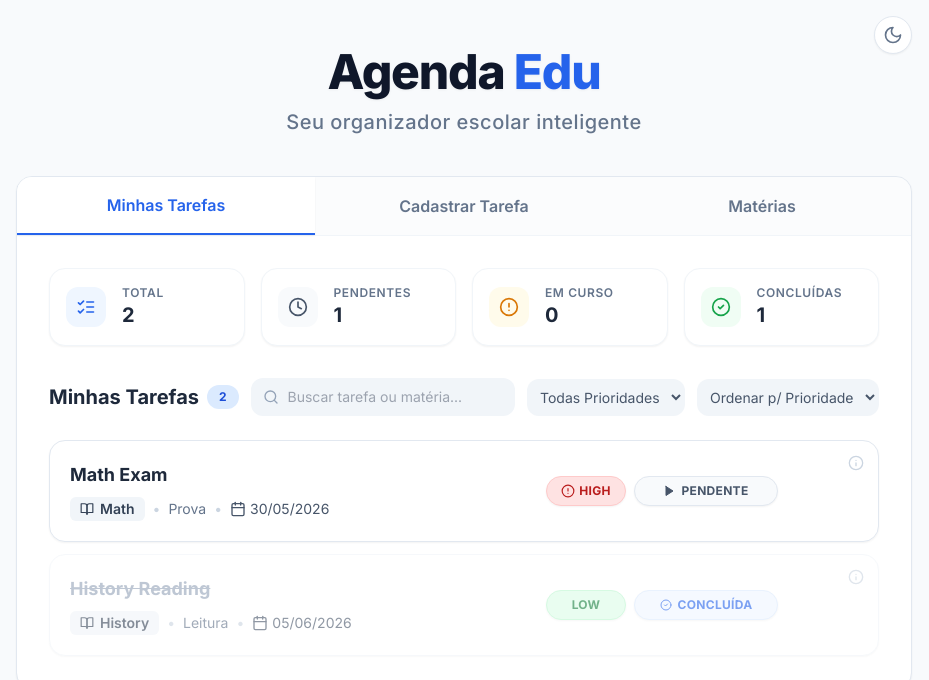
Scenario: HomePage › filters tasks by priority
This screenshot has width=929, height=680.
Select "Alta" in the 1st dropdown showing "Todas Prioridades": (606, 397) [527,378,685,416]
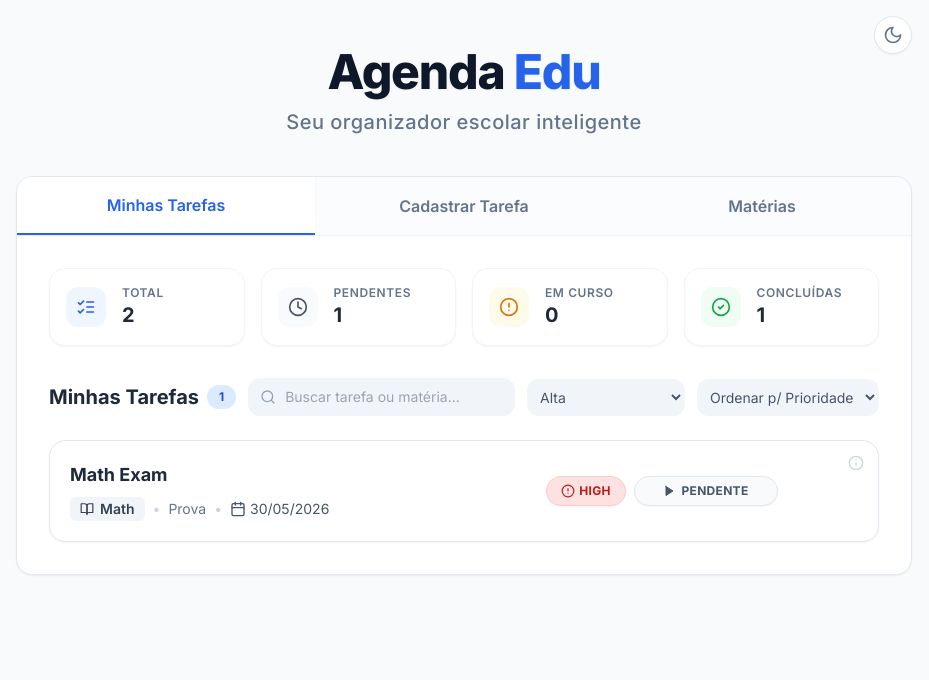
Check: the heading "Math Exam" is shown, box [70,464,168,485]
Check: the heading "History Reading" is gone
